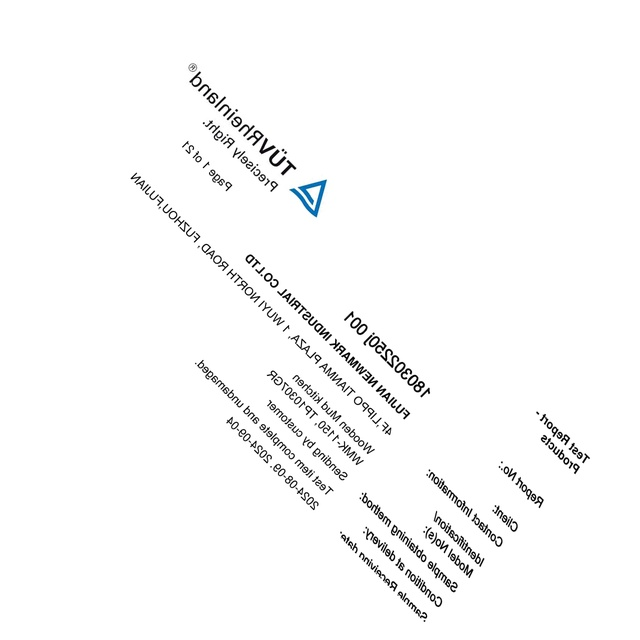tuv_rheinland: (187, 58, 328, 223)
